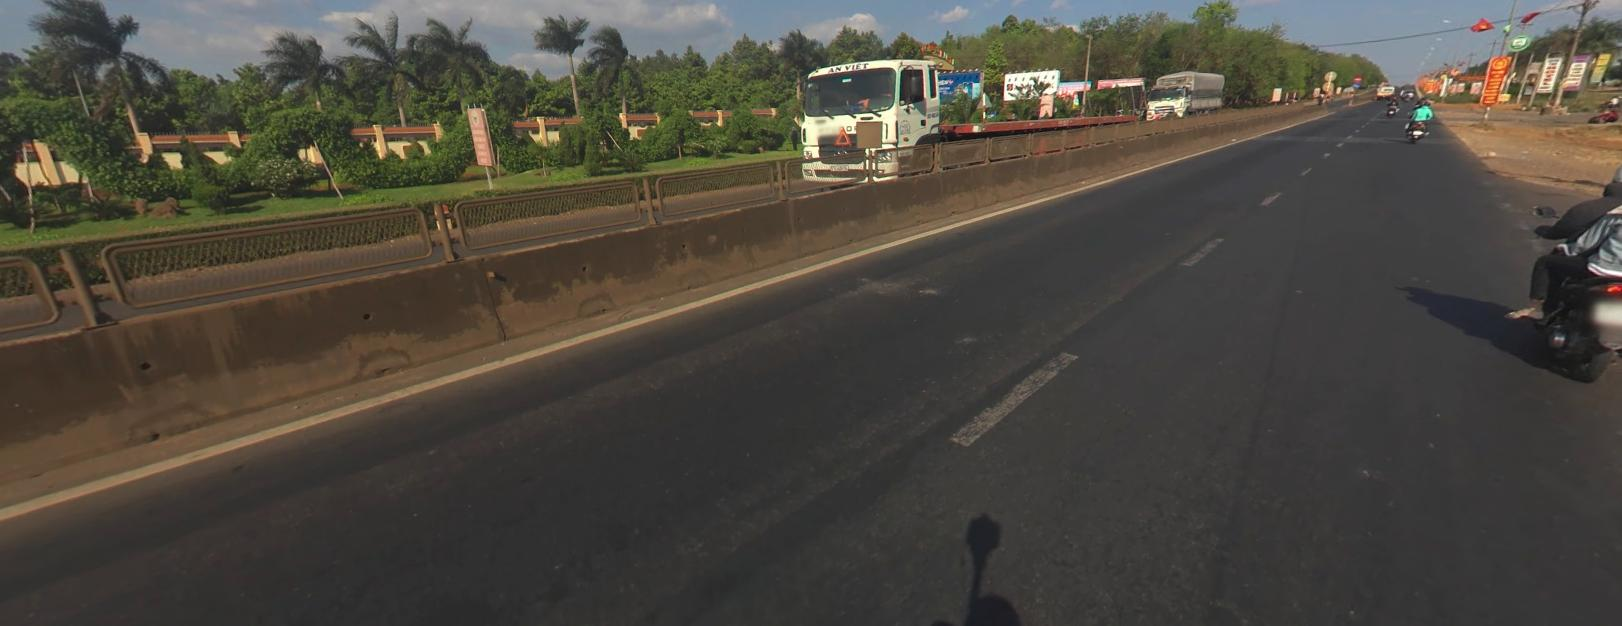Cam nguoc chieu: (1353, 74, 1361, 82)
Hieu lenh: (1352, 82, 1359, 88)
